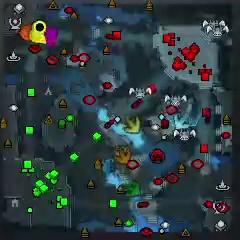p3: (44, 29, 59, 49)
p4: (30, 31, 46, 45)
p4Clone: (33, 20, 47, 33)
p5: (21, 24, 32, 41)
x2: (124, 115, 141, 134)
x3: (175, 112, 191, 129)
x4: (125, 181, 141, 198)
x5: (114, 145, 132, 164)
